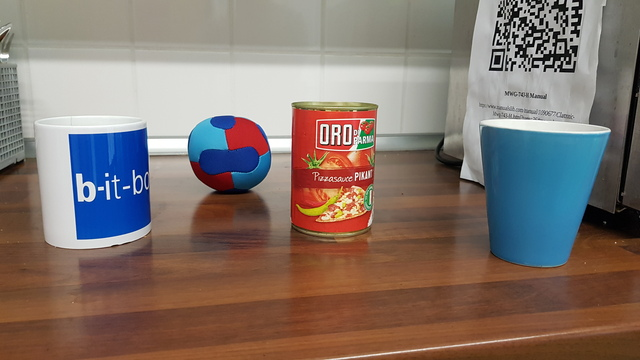005_tomato_soup_can: (288, 98, 380, 237)
025_mug: (476, 118, 613, 269), (33, 113, 152, 249)
057_racquetball: (186, 115, 274, 195)
